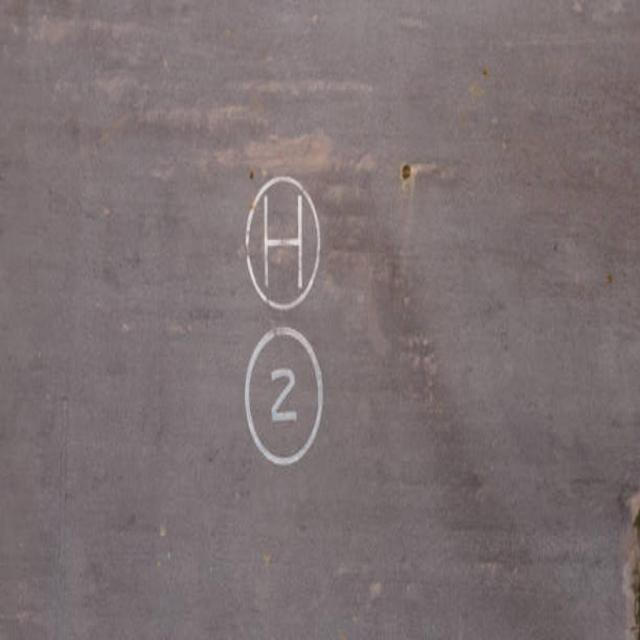helipad: (244, 174, 321, 310)
